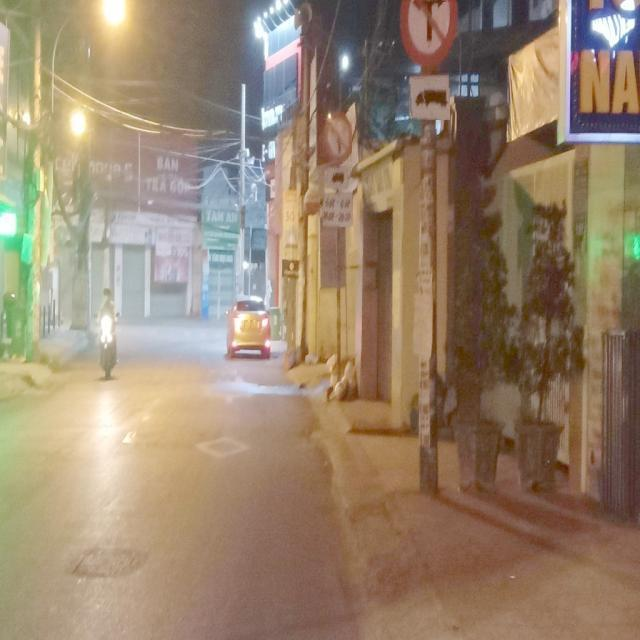137-cam-re-trai-va-re-phai: (398, 0, 458, 67), (324, 113, 354, 164)
